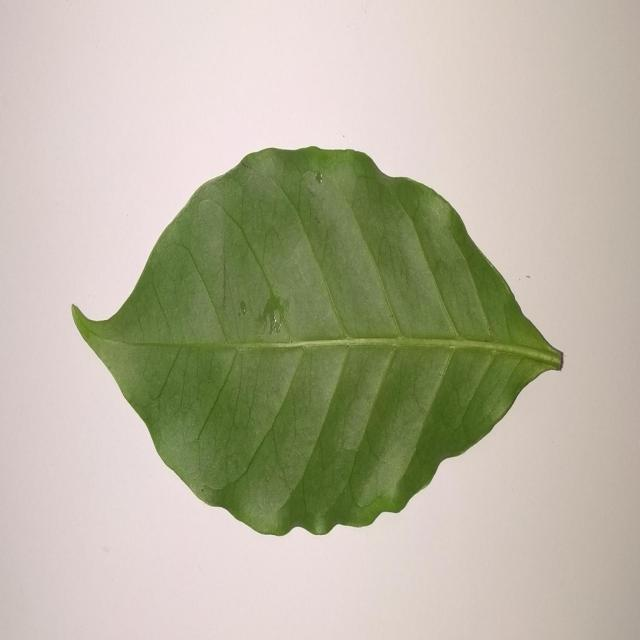Sanas: (70, 148, 565, 539)
